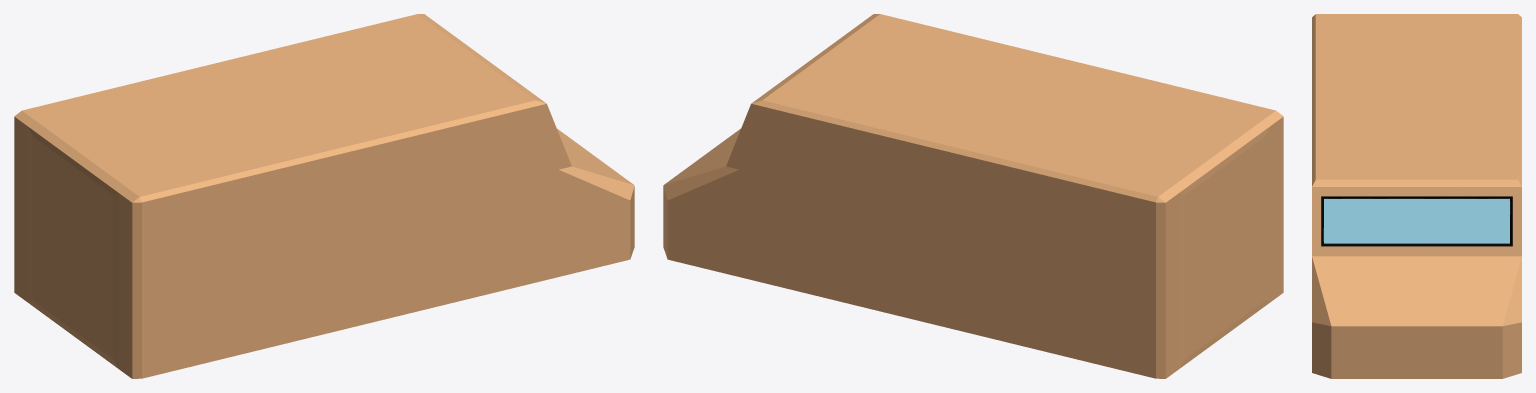
Rendered from delivery_truck_body.fbx.
3 views of the same model, side by side, from view 1: azimuth 30°, elevation 25°; view 2: azimuth 150°, elevation 25°; view 3: azimuth 270°, elevation 25° (orthographic). The views are drawn at different scales.
Parts seen in each view (by area): view 1: Body; view 2: Body; view 3: Body.
Boxes of the visible parts, box(x1,y1,x2,y2) form: Body: box(14, 14, 634, 378); Body: box(663, 14, 1283, 378); Body: box(1312, 14, 1521, 378).
Size of the model in its own units: 966 by 325 by 400.
Materials: 1 (1 with a texture image).
